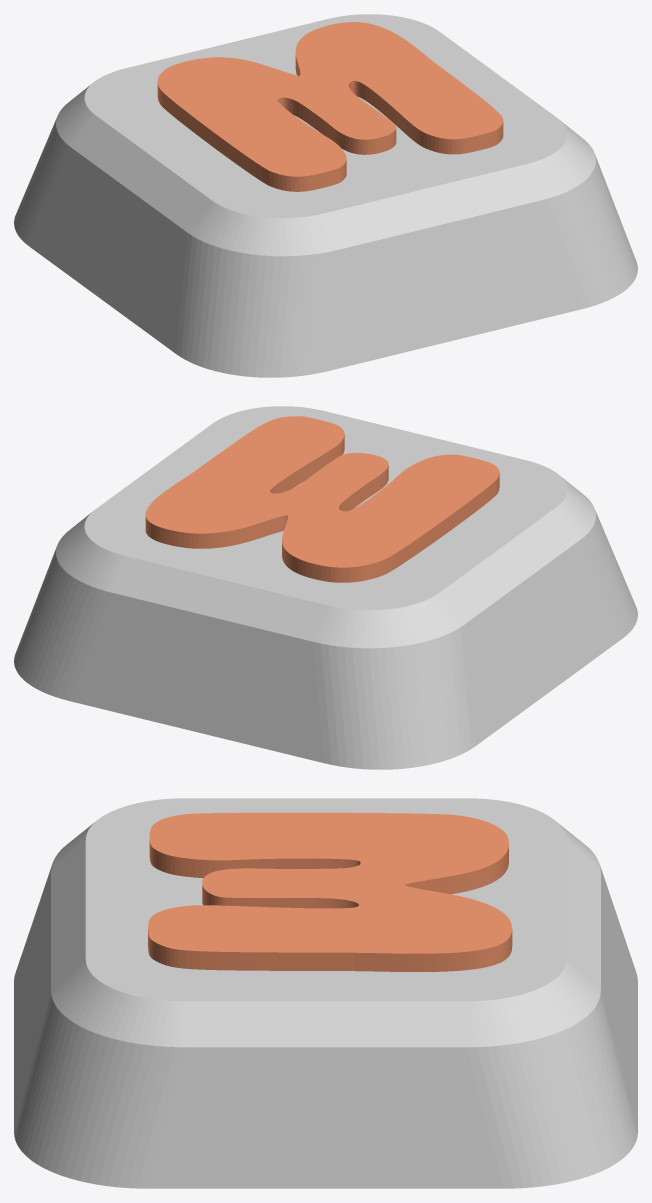
Rendered from cap-M.glb.
3 renders of one model, top to bottom at view 1: azimuth 30°, elevation 25°; view 2: azimuth 150°, elevation 25°; view 3: azimuth 270°, elevation 25°, orthographic. The views are drawn at different scales.
Visible parts, largest first — view 1: cap_0, glyph_1; view 2: cap_0, glyph_1; view 3: cap_0, glyph_1.
Boxes of the visible parts, left/top/right/bottom form: cap_0: left=14, top=14, right=637, bottom=377; glyph_1: left=157, top=22, right=503, bottom=191; cap_0: left=14, top=406, right=637, bottom=769; glyph_1: left=145, top=416, right=499, bottom=582; cap_0: left=14, top=798, right=637, bottom=1188; glyph_1: left=148, top=812, right=512, bottom=971.
Size of the model in its own units: 18 by 5.59 by 18.
